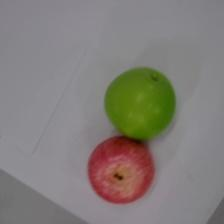green: (103, 66, 176, 140)
red: (87, 135, 155, 203)
